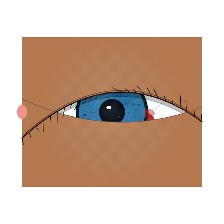hemorrhage_spot: (102, 95, 162, 144)
